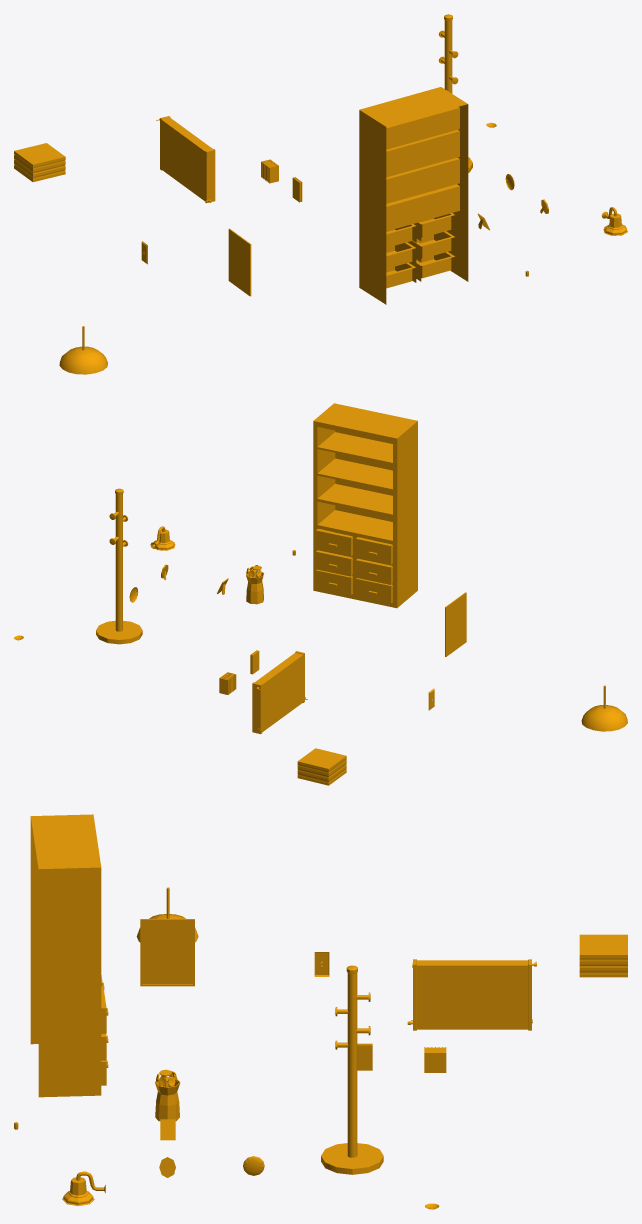
The model's file is Props_Generales_Text.fbx.
3 views of the same model, one above another, from view 1: azimuth 30°, elevation 25°; view 2: azimuth 150°, elevation 25°; view 3: azimuth 270°, elevation 25° (orthographic). The views are drawn at different scales.
Visible parts, largest first — view 1: Armario_Acertijo_DONE, Radiador_Base, Clothing_Pile_DONE, Cuadro_ParedDONE, Lampara, armario_acertijo__3_:polySurface1pCube1polySurface5, armario_acertijo__3_:polySurface1pCube1polySurface2, Perchero_Base, armario_acertijo__3_:polySurface1pCube1polySurface7, armario_acertijo__3_:polySurface1pCube1polySurface4, armario_acertijo__3_:polySurface1pCube1polySurface3, armario_acertijo__3_:polySurface1pCube1polySurface6; view 2: Armario_Acertijo_DONE, Radiador_Base, Perchero_Base, Clothing_Pile_DONE, Cuadro_ParedDONE, Lampara, armario_acertijo__3_:polySurface1pCube1polySurface7, armario_acertijo__3_:polySurface1pCube1polySurface6, armario_acertijo__3_:polySurface1pCube1polySurface4, armario_acertijo__3_:polySurface1pCube1polySurface5, armario_acertijo__3_:polySurface1pCube1polySurface2, armario_acertijo__3_:polySurface1pCube1polySurface3; view 3: Armario_Acertijo_DONE, Radiador_Base, Cuadro_ParedDONE, Perchero_Base, Clothing_Pile_DONE, Florero, LamparaPared01DONE, Pack_LibrosDONE.
Part boxes in pixels (x1,y1,x2,y2): Armario_Acertijo_DONE: (359,87,468,304); Radiador_Base: (160,116,215,203); Clothing_Pile_DONE: (14,143,65,181); Cuadro_ParedDONE: (228,228,251,296); Lampara: (59,346,107,374); armario_acertijo__3_:polySurface1pCube1polySurface5: (407,231,455,261); armario_acertijo__3_:polySurface1pCube1polySurface2: (409,251,455,281); Perchero_Base: (444,14,472,172); armario_acertijo__3_:polySurface1pCube1polySurface7: (414,213,455,240); armario_acertijo__3_:polySurface1pCube1polySurface4: (386,242,416,268); armario_acertijo__3_:polySurface1pCube1polySurface3: (386,262,416,288); armario_acertijo__3_:polySurface1pCube1polySurface6: (386,224,416,247); Armario_Acertijo_DONE: (313,403,417,608); Radiador_Base: (252,651,304,734); Perchero_Base: (96,488,142,644); Clothing_Pile_DONE: (297,748,346,785); Cuadro_ParedDONE: (445,592,466,656); Lampara: (581,705,627,731); armario_acertijo__3_:polySurface1pCube1polySurface7: (316,529,360,556); armario_acertijo__3_:polySurface1pCube1polySurface6: (356,537,392,564); armario_acertijo__3_:polySurface1pCube1polySurface4: (356,558,392,584); armario_acertijo__3_:polySurface1pCube1polySurface5: (316,550,352,576); armario_acertijo__3_:polySurface1pCube1polySurface2: (316,569,352,595); armario_acertijo__3_:polySurface1pCube1polySurface3: (356,578,392,603); Armario_Acertijo_DONE: (30,814,101,1097); Radiador_Base: (413,959,531,1030); Cuadro_ParedDONE: (140,919,194,986); Perchero_Base: (321,965,383,1174); Clothing_Pile_DONE: (579,934,627,977); Florero: (155,1077,180,1121); LamparaPared01DONE: (62,1171,105,1205); Pack_LibrosDONE: (424,1047,446,1072).
Size of the model in its own units: 656 by 252 by 507.
